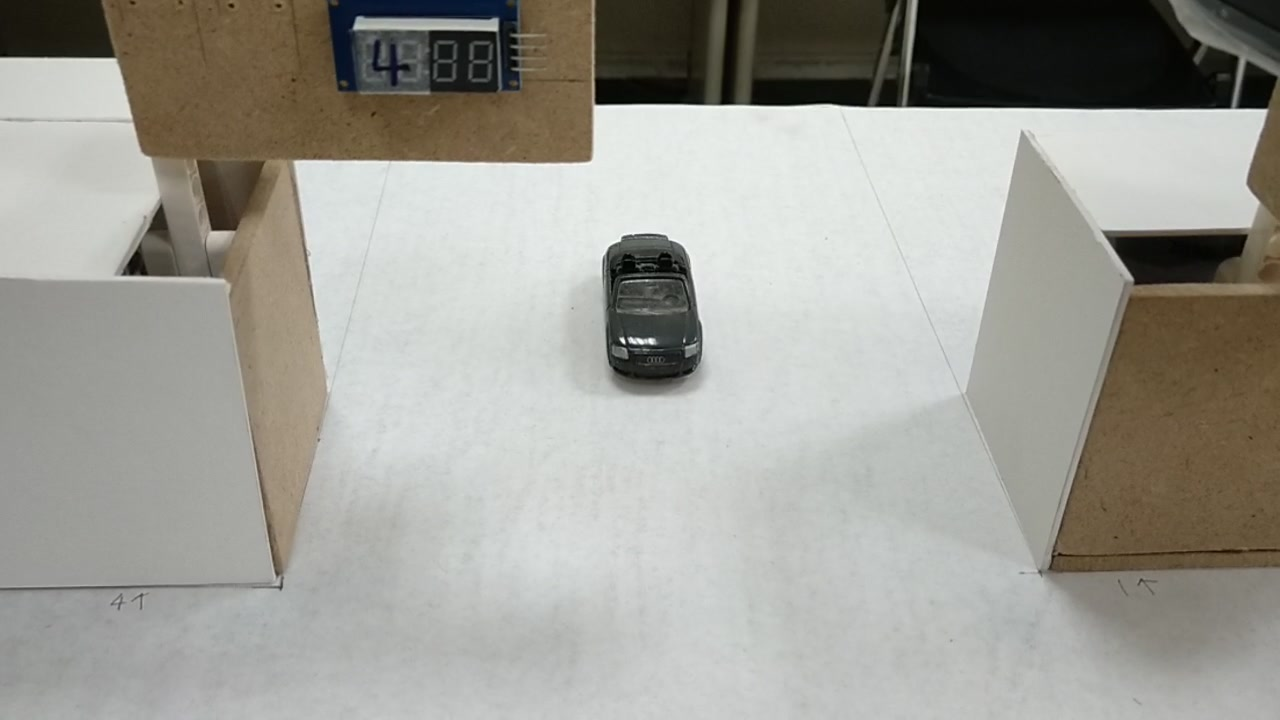car: (599, 229, 702, 384)
